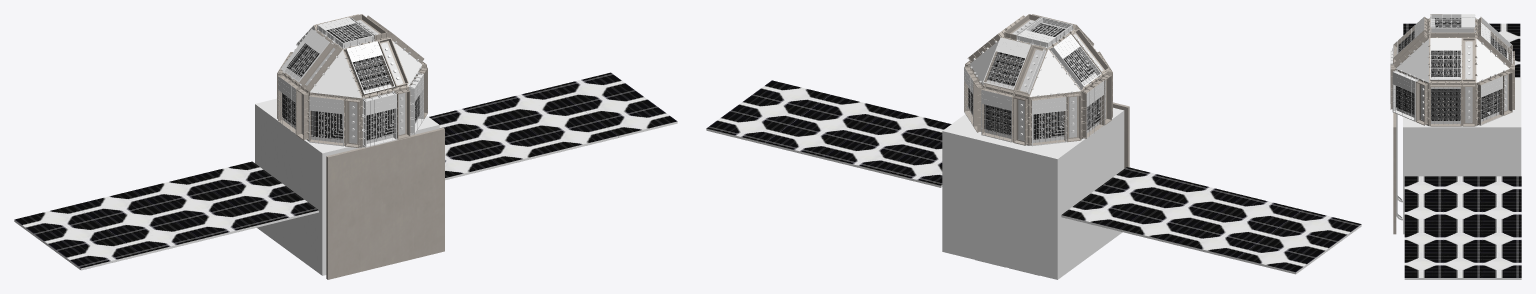
The model's file is satellite-6c916e199916.glb.
The picture shows the model from 3 angles, left to right: view 1: azimuth 30°, elevation 25°; view 2: azimuth 150°, elevation 25°; view 3: azimuth 270°, elevation 25°; orthographic projection. The views are drawn at different scales.
Visible parts, largest first — view 1: Spacecraft bus: Metal 59A, Left solar / outer hinge: Solar PANEL, Right solar / outer hinge: Solar PANEL, Left solar / inner half: Solar PANEL, Spacecraft bus: Chromatic Rainbow Spectrum Metal, Right solar / inner half: Solar PANEL, Detector housings: Metal 59A, Spacecraft bus: Gold.001 (×2), Detector electronics: PCB Circuit Board 01 (×2), Detector housings: Titanium (×2), Crown: Chromatic Rainbow Spectrum Metal, Detector housings: c_5 (+4 smaller); view 2: Spacecraft bus: Chromatic Rainbow Spectrum Metal, Left solar / outer hinge: Solar PANEL, Right solar / outer hinge: Solar PANEL, Left solar / inner half: Solar PANEL, Right solar / inner half: Solar PANEL, Detector housings: Metal 59A, Spacecraft bus: Gold.001, Detector electronics: PCB Circuit Board 01 (×2), Crown: Chromatic Rainbow Spectrum Metal (×2), Detector housings: Titanium, Detector housings: c_5, Left solar / outer hinge: Chromatic Rainbow Spectrum Metal (+3 smaller); view 3: Spacecraft bus: Chromatic Rainbow Spectrum Metal, Right solar / inner half: Solar PANEL, Right solar / outer hinge: Solar PANEL, Detector housings: Metal 59A, Detector electronics: PCB Circuit Board 01 (×2), Spacecraft bus: Gold.001 (×2), Crown: Chromatic Rainbow Spectrum Metal, Detector housings: c_5, Left solar / outer hinge: Solar PANEL, Detector housings: Titanium, Crown: Metal 59A, Upper frame: Metal 59A (+6 smaller).
Boxes of the visible parts, x1,y1,x2,y2 form: Spacecraft bus: Metal 59A: [326, 127, 444, 279]; Left solar / outer hinge: Solar PANEL: [14, 190, 199, 268]; Right solar / outer hinge: Solar PANEL: [492, 72, 677, 150]; Left solar / inner half: Solar PANEL: [133, 161, 318, 239]; Spacecraft bus: Chromatic Rainbow Spectrum Metal: [255, 98, 439, 275]; Right solar / inner half: Solar PANEL: [429, 101, 558, 177]; Detector housings: Metal 59A: [277, 14, 427, 147]; Spacecraft bus: Gold.001 (×2): [278, 17, 423, 147]; Detector electronics: PCB Circuit Board 01 (×2): [282, 24, 419, 140]; Detector housings: Titanium (×2): [281, 23, 423, 147]; Crown: Chromatic Rainbow Spectrum Metal: [310, 40, 422, 98]; Detector housings: c_5: [302, 20, 405, 143]; Spacecraft bus: Chromatic Rainbow Spectrum Metal: [942, 107, 1124, 279]; Left solar / outer hinge: Solar PANEL: [1179, 195, 1361, 272]; Right solar / outer hinge: Solar PANEL: [706, 80, 888, 156]; Left solar / inner half: Solar PANEL: [1062, 167, 1243, 243]; Right solar / inner half: Solar PANEL: [824, 109, 951, 185]; Detector housings: Metal 59A: [964, 14, 1112, 145]; Spacecraft bus: Gold.001: [964, 17, 1110, 274]; Detector electronics: PCB Circuit Board 01 (×2): [968, 23, 1100, 139]; Crown: Chromatic Rainbow Spectrum Metal (×2): [969, 40, 1092, 96]; Detector housings: Titanium: [1017, 17, 1100, 94]; Detector housings: c_5: [1012, 20, 1105, 141]; Left solar / outer hinge: Chromatic Rainbow Spectrum Metal: [1178, 212, 1361, 274]; Spacecraft bus: Chromatic Rainbow Spectrum Metal: [1403, 77, 1521, 234]; Right solar / inner half: Solar PANEL: [1404, 176, 1521, 227]; Right solar / outer hinge: Solar PANEL: [1404, 227, 1521, 277]; Detector housings: Metal 59A: [1390, 14, 1514, 126]; Detector electronics: PCB Circuit Board 01 (×2): [1396, 18, 1506, 120]; Spacecraft bus: Gold.001 (×2): [1390, 14, 1512, 125]; Crown: Chromatic Rainbow Spectrum Metal: [1396, 38, 1509, 82]; Detector housings: c_5: [1421, 41, 1507, 123]; Left solar / outer hinge: Solar PANEL: [1403, 23, 1520, 74]; Detector housings: Titanium: [1393, 14, 1511, 121]; Crown: Metal 59A: [1394, 18, 1509, 83]; Upper frame: Metal 59A: [1394, 65, 1510, 125].
Bounding box in the file's own units: 9.1 × 3.2 × 1.98.
27 materials, 6 textured.
